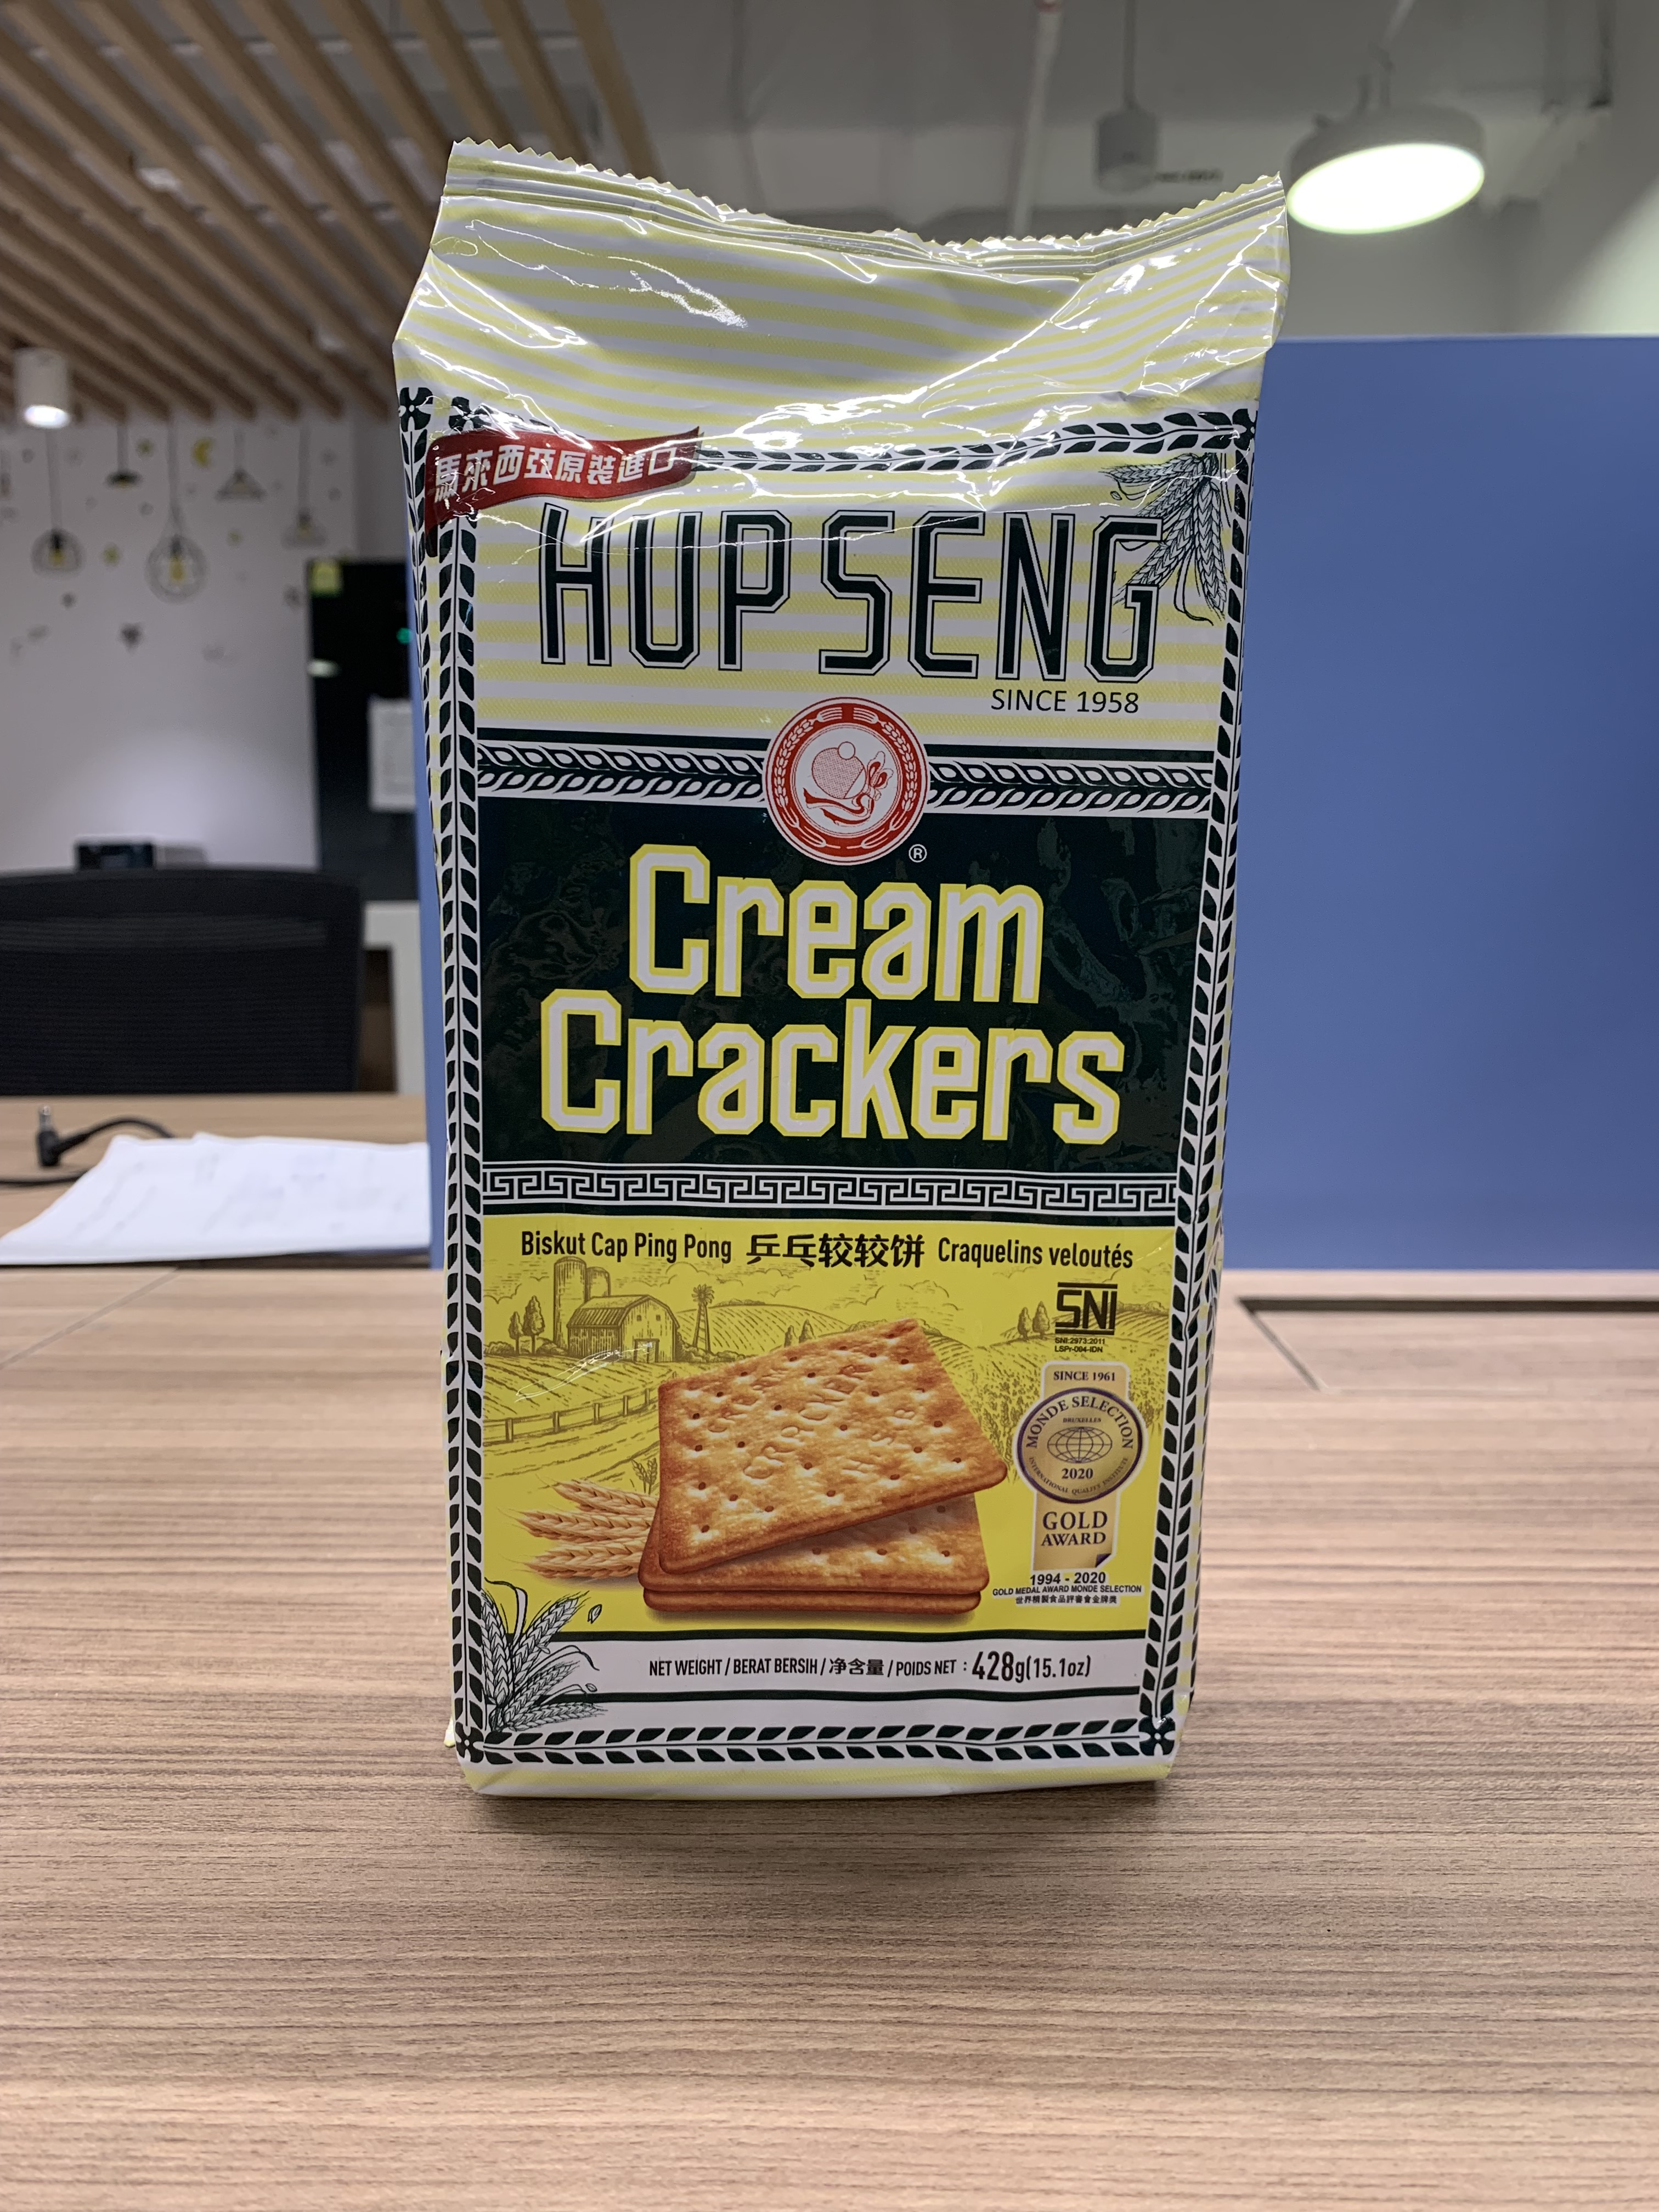crackers_400g-499g: (427, 406, 1185, 1768)
